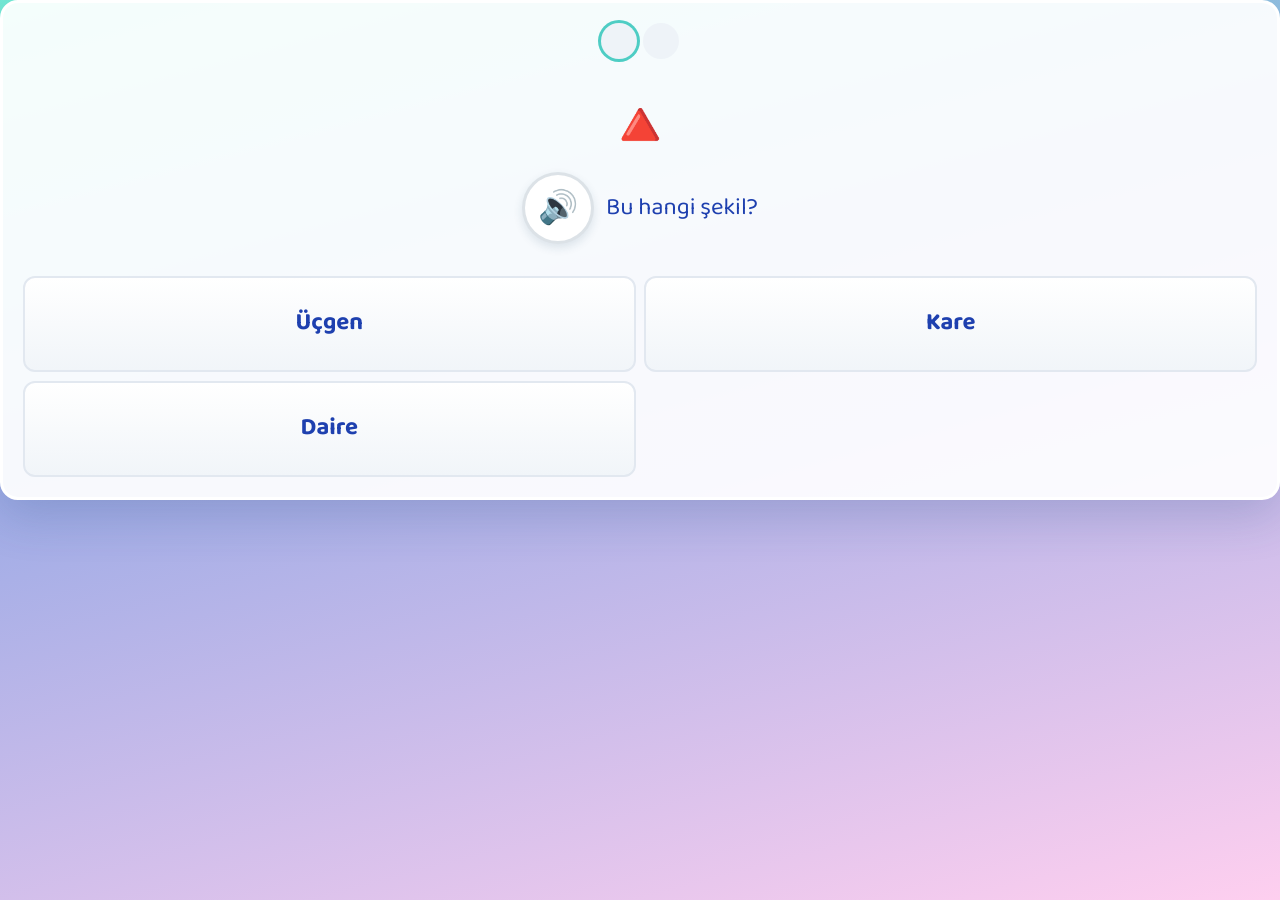
Test: QuizGame › 1. yanlış: yumuşak ton, tekrar dene, ipucu, yavaş soru; 2. yanlış: cevap gösterilir
Later steps or results of the test are not shown.
What coordinates should you click on to do the following:
click the button "Kare"
I would click on:
 (951, 324)
Its box is [644, 276, 1257, 372].
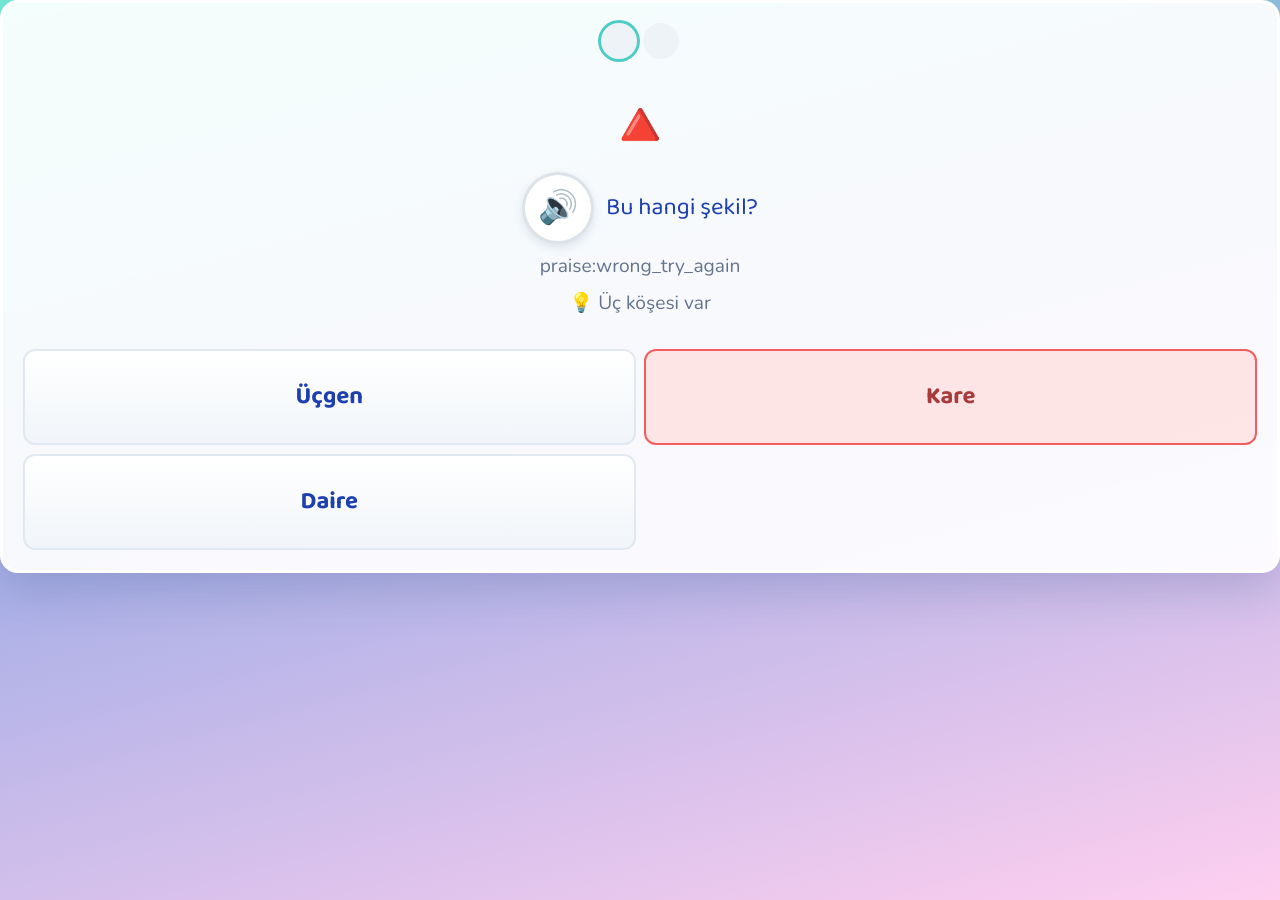
Now the button "Kare" is disabled, box [644, 349, 1257, 445]
